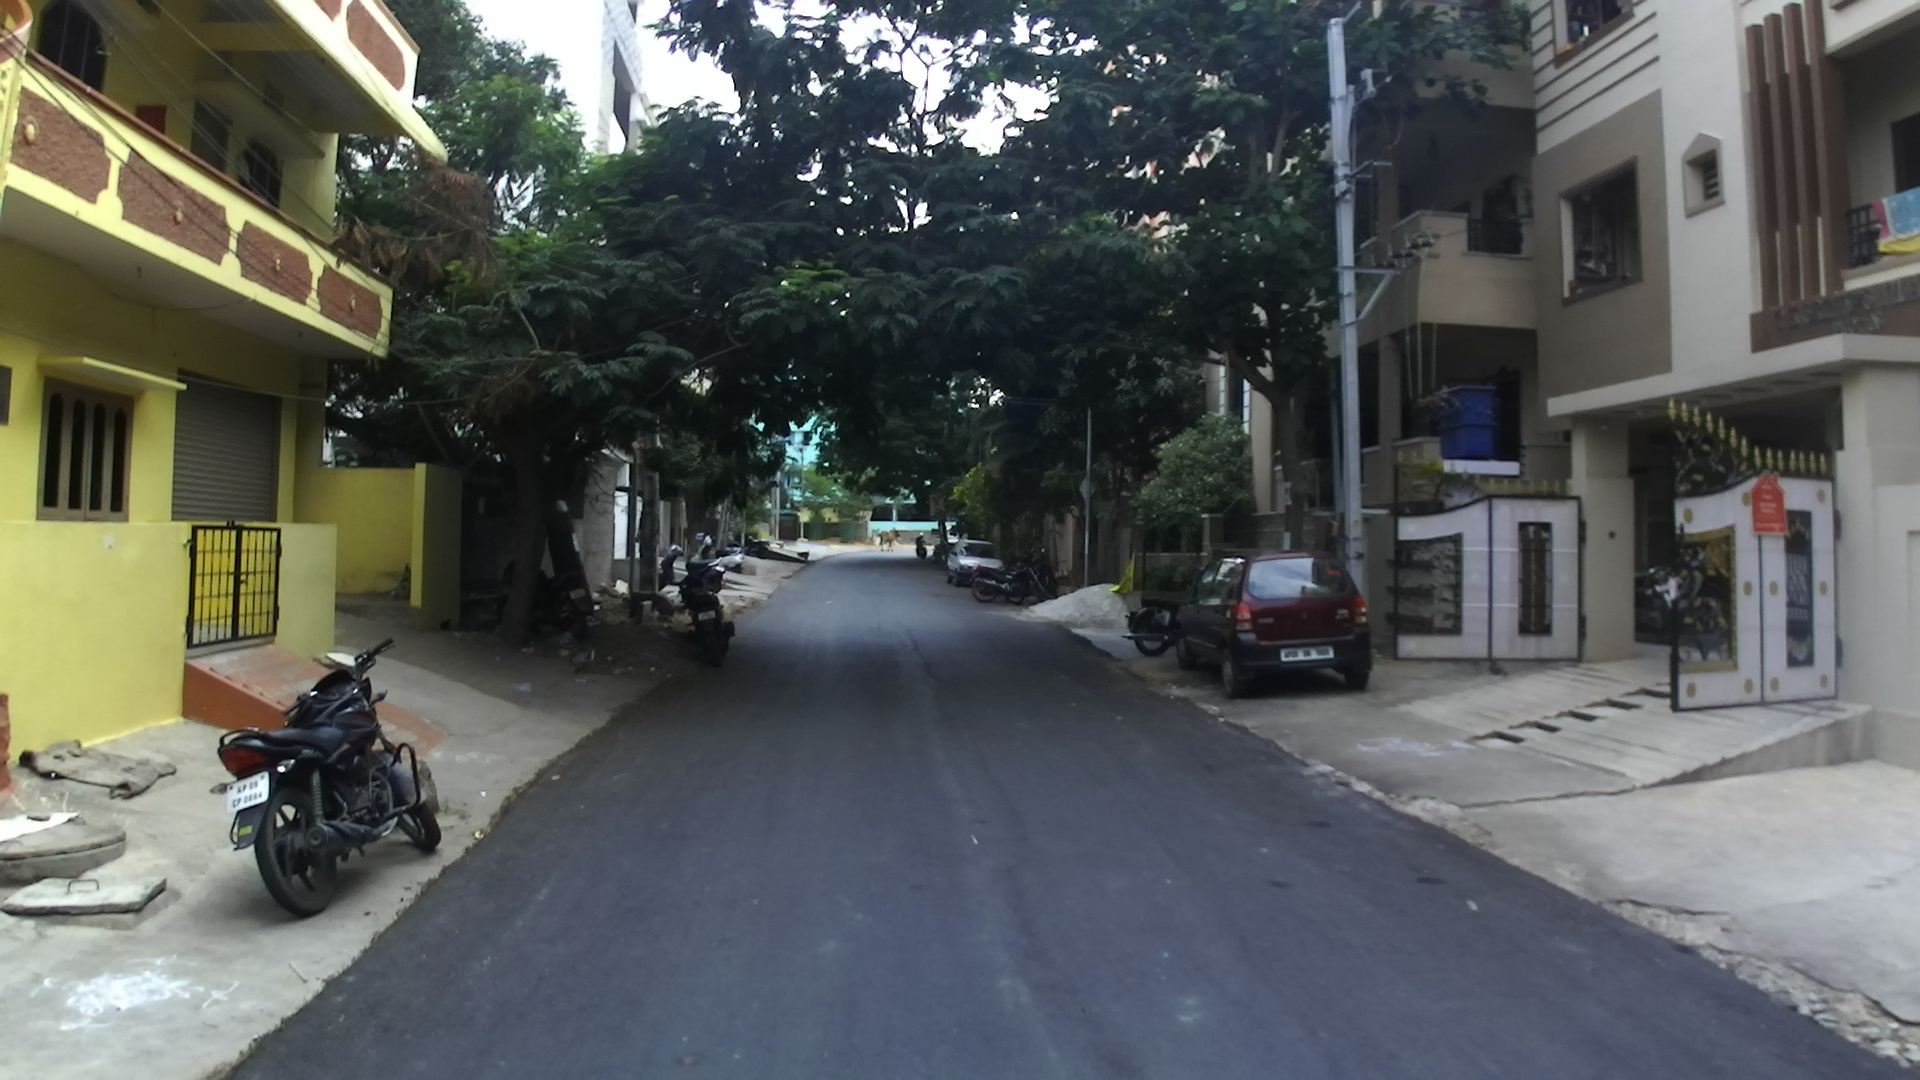vehicle: (216, 638, 444, 916), (1176, 553, 1371, 694), (1170, 556, 1241, 670), (683, 562, 736, 667), (947, 542, 1007, 591), (775, 545, 812, 564)
